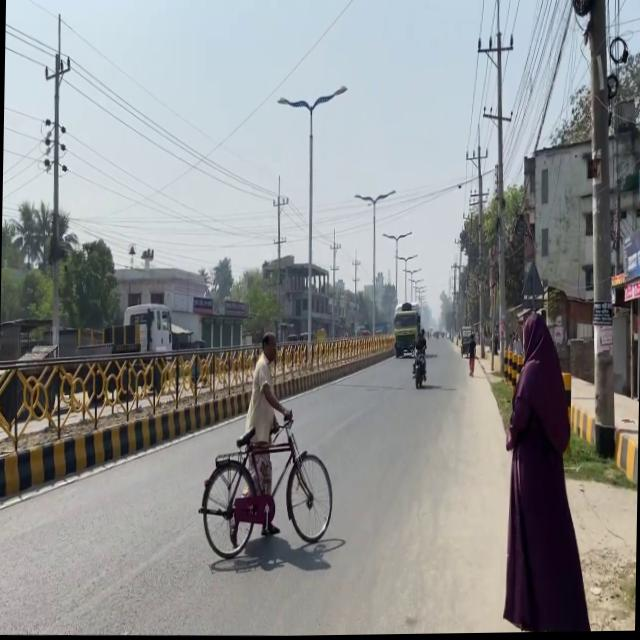Fallen-tree: (411, 348, 426, 390)
Garbage: (232, 492, 274, 525)
Garbage-bin: (500, 312, 596, 634), (241, 331, 294, 536), (411, 330, 427, 379), (466, 334, 476, 377)
Light-pole: (578, 0, 622, 460)
Traffic-cone: (0, 299, 205, 415), (196, 409, 334, 560), (392, 302, 421, 359)
